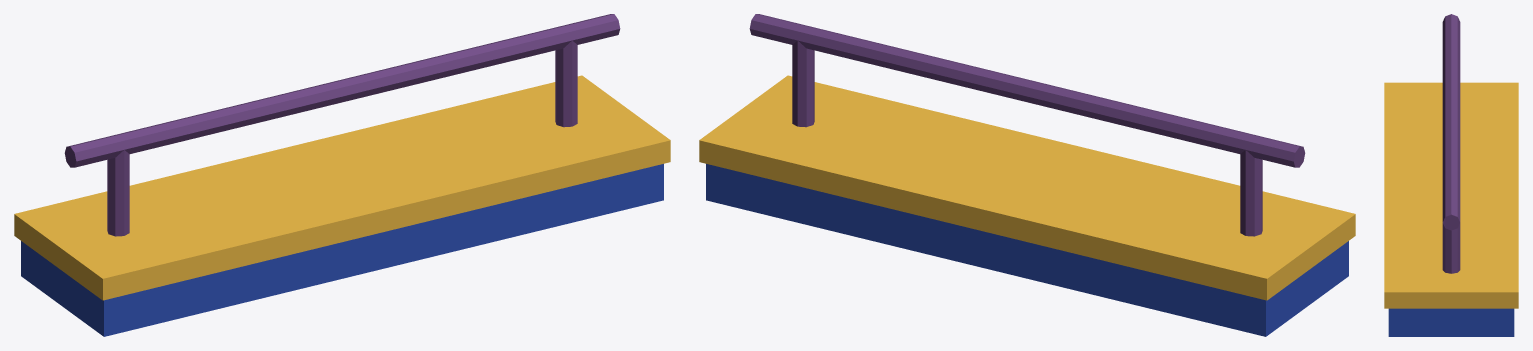
Rendered from grind_rail.glb.
The picture shows the model from 3 angles, left to right: view 1: azimuth 30°, elevation 25°; view 2: azimuth 150°, elevation 25°; view 3: azimuth 270°, elevation 25°; orthographic projection. The views are drawn at different scales.
Visible parts, largest first — view 1: grind_rail; view 2: grind_rail; view 3: grind_rail.
Part boxes in pixels (x1=…): grind_rail: x1=14, y1=14, x2=670, y2=336; grind_rail: x1=699, y1=14, x2=1355, y2=336; grind_rail: x1=1384, y1=14, x2=1518, y2=336.
Size of the model in its own units: 3.55 by 0.943 by 0.96.
